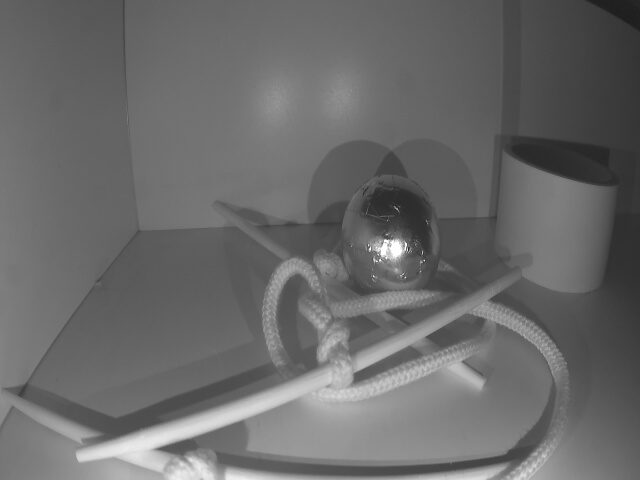Live: (342, 172, 440, 296)
